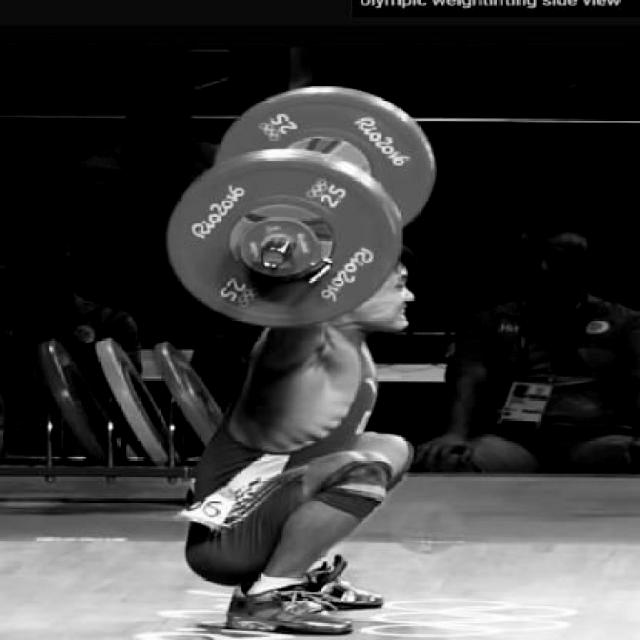barbell: (158, 151, 404, 332)
